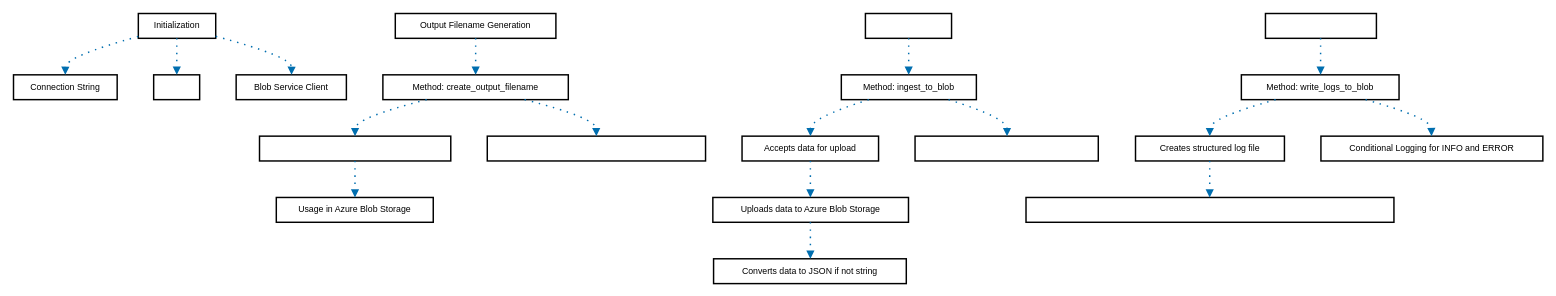
This 1556x296 diagram has some shape labels left out. Here are the shapes that lost their labels. From the top down, the box of each, then its label:
(864, 12, 952, 39): Data Ingestion
(1264, 12, 1377, 39): Log Writing to Blob
(153, 74, 200, 100): Logger
(258, 135, 451, 161): Generates unique output filename
(486, 135, 706, 161): Error Handling for Filename Generation
(914, 135, 1099, 161): Error Handling for Data Ingestion
(1025, 196, 1394, 223): Includes filename, duration, status, records, log level, and message
